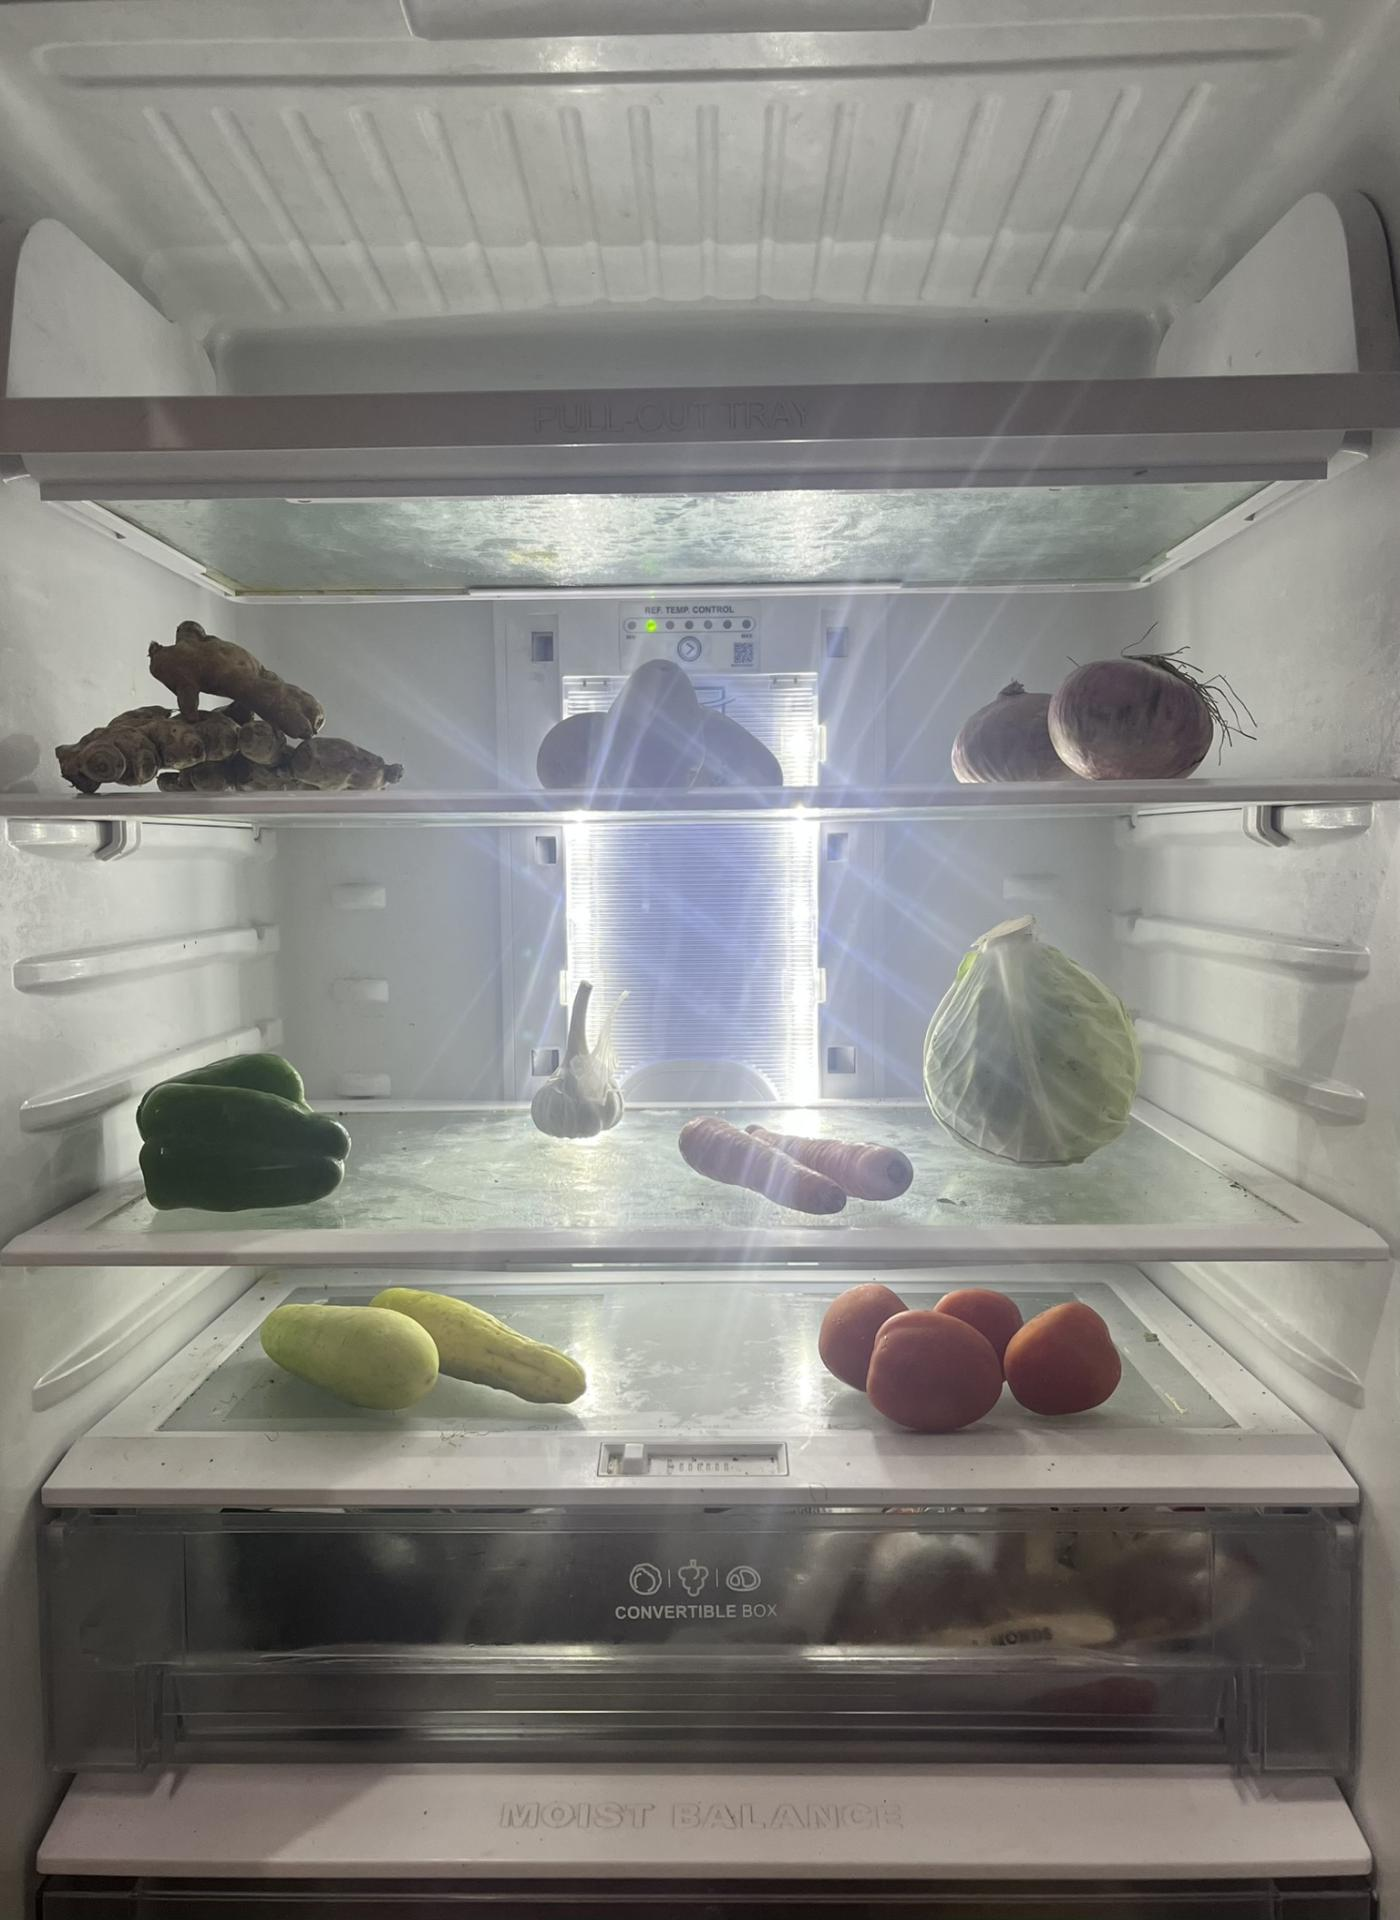cabbage: (911, 923, 1145, 1172)
capsicum: (140, 1046, 352, 1209)
carrots: (671, 1118, 929, 1215)
cucumber: (249, 1291, 586, 1413)
garlic: (538, 972, 629, 1140)
ginger: (52, 616, 407, 809)
onion: (960, 650, 1227, 778)
potato: (538, 656, 793, 793)
tomato: (820, 1285, 1133, 1416)
